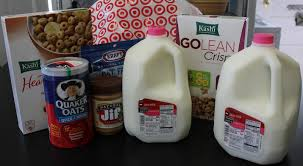milk: (216, 39, 299, 166), (123, 30, 193, 143)
